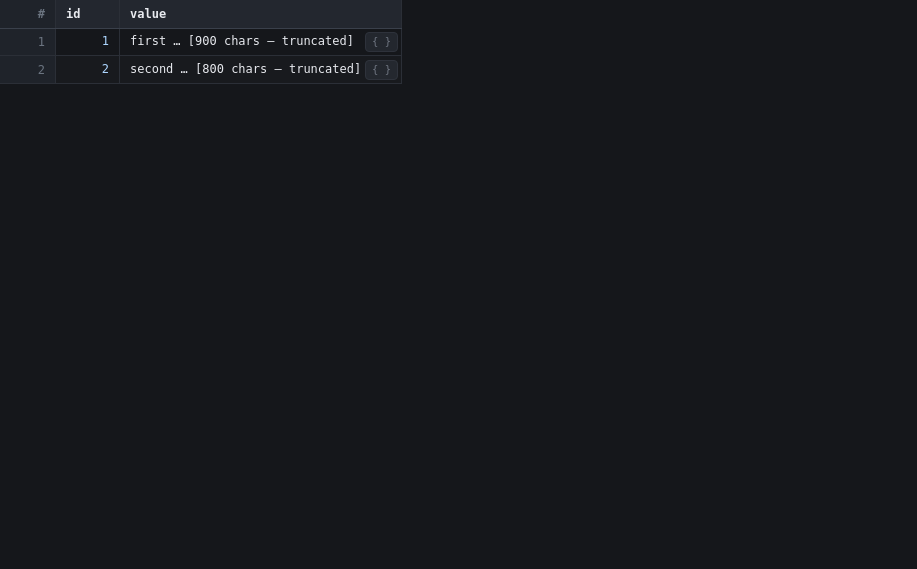
Test: DataGrid DOM behavior › opens structured values and ignores a stale full-value response
What coordinates should you click on to do the following:
click the button titled "View formatted" next to "first … [900 chars — truncated]"
I would click on:
 (382, 42)
Its box is 365,32 -> 398,52.
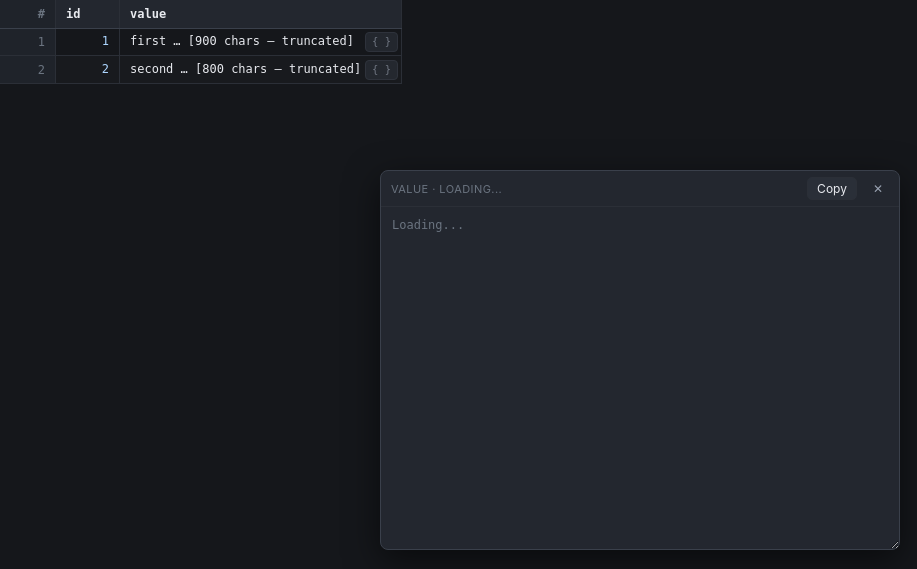
What coordinates should you click on to do the following:
click the button titled "View formatted" next to "second … [800 chars — truncated]"
I would click on:
 (382, 70)
Its box is 365,60 -> 398,80.
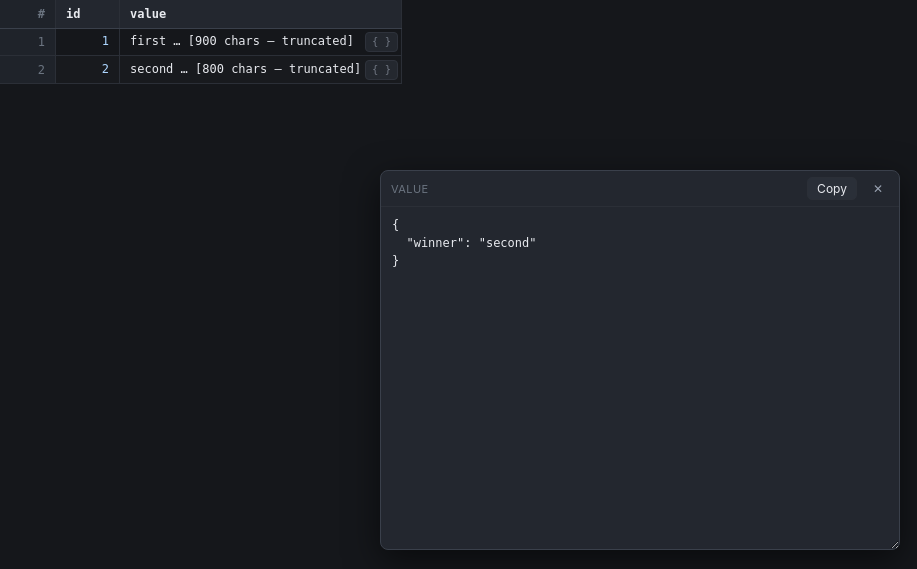
Expected: the element with test id "structured-value-viewer" does not show "stale", 380,170 -> 900,550
Result: the element with test id "structured-value-viewer" shows "winner" at 392,218 -> 536,268
Result: the element with test id "structured-value-viewer" shows "second" at 392,218 -> 536,268
